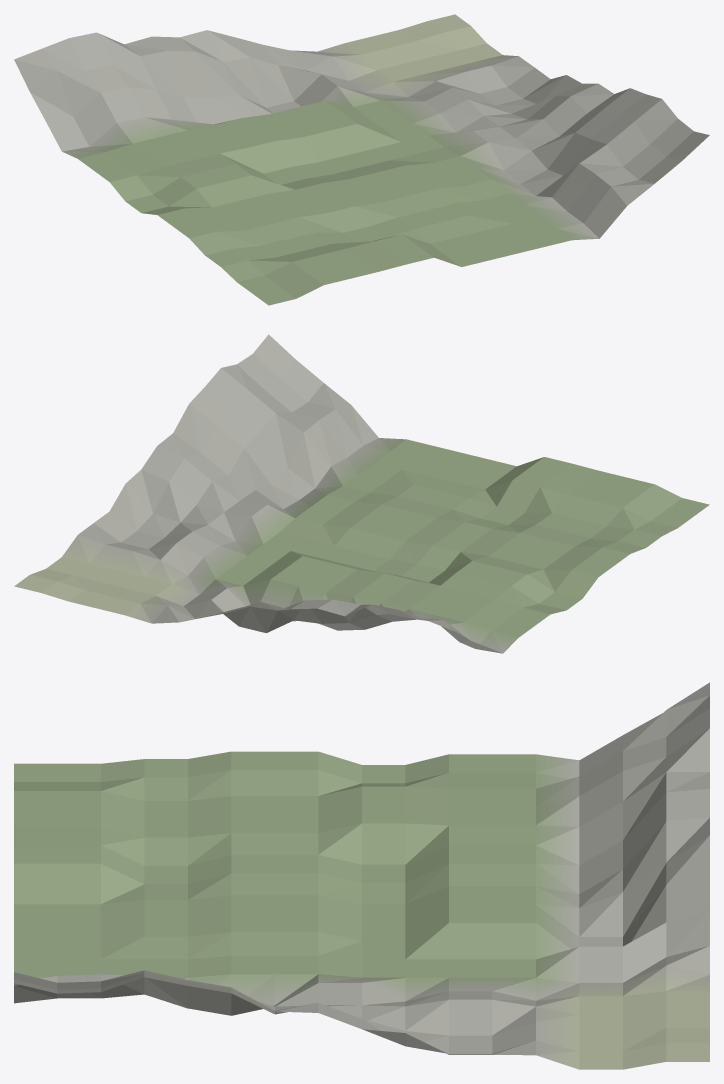
The picture shows the model from 3 angles, top to bottom: view 1: azimuth 30°, elevation 25°; view 2: azimuth 150°, elevation 25°; view 3: azimuth 270°, elevation 25°; orthographic projection. The views are drawn at different scales.
Size of the model in its own units: 32 by 6.02 by 32.
